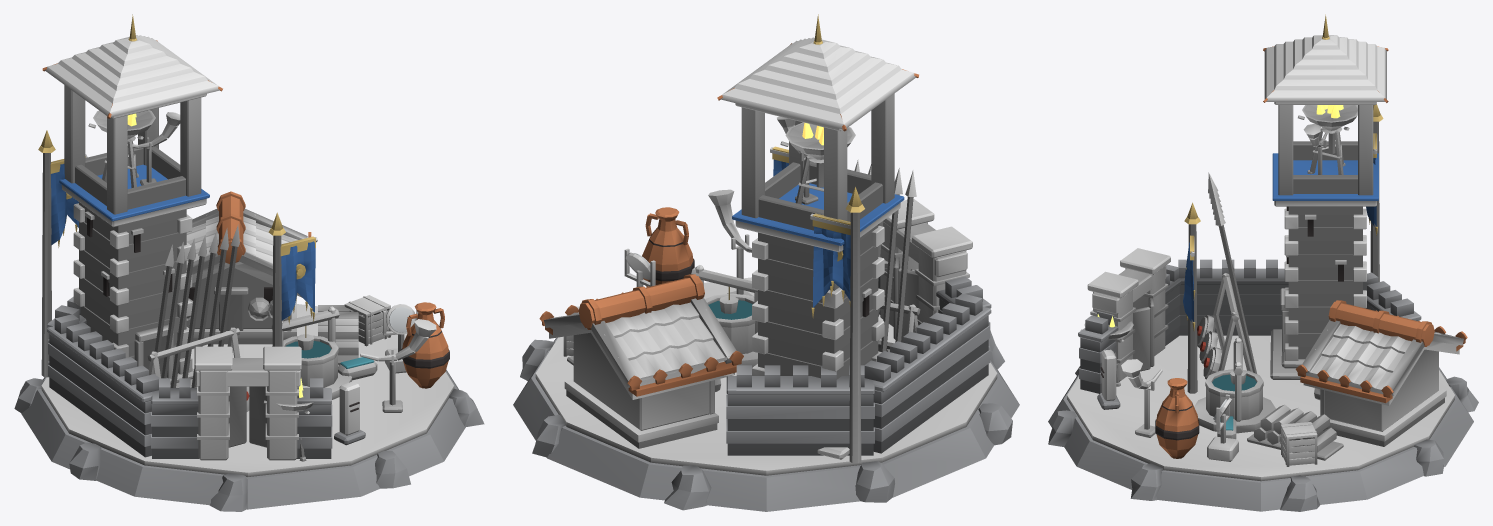
The model's file is sentry-camp-l3.glb.
3 renders of one model, left to right at view 1: azimuth 30°, elevation 25°; view 2: azimuth 150°, elevation 25°; view 3: azimuth 270°, elevation 25°, orthographic. The views are drawn at different scales.
Parts seen in each view (by area): view 1: sentry-camp-l3; view 2: sentry-camp-l3; view 3: sentry-camp-l3.
Boxes of the visible parts, bbox=[...] form: sentry-camp-l3: bbox=[14, 14, 484, 511]; sentry-camp-l3: bbox=[513, 14, 1019, 511]; sentry-camp-l3: bbox=[1048, 14, 1478, 511].
Size of the model in its own units: 1.52 by 1.45 by 1.53.
